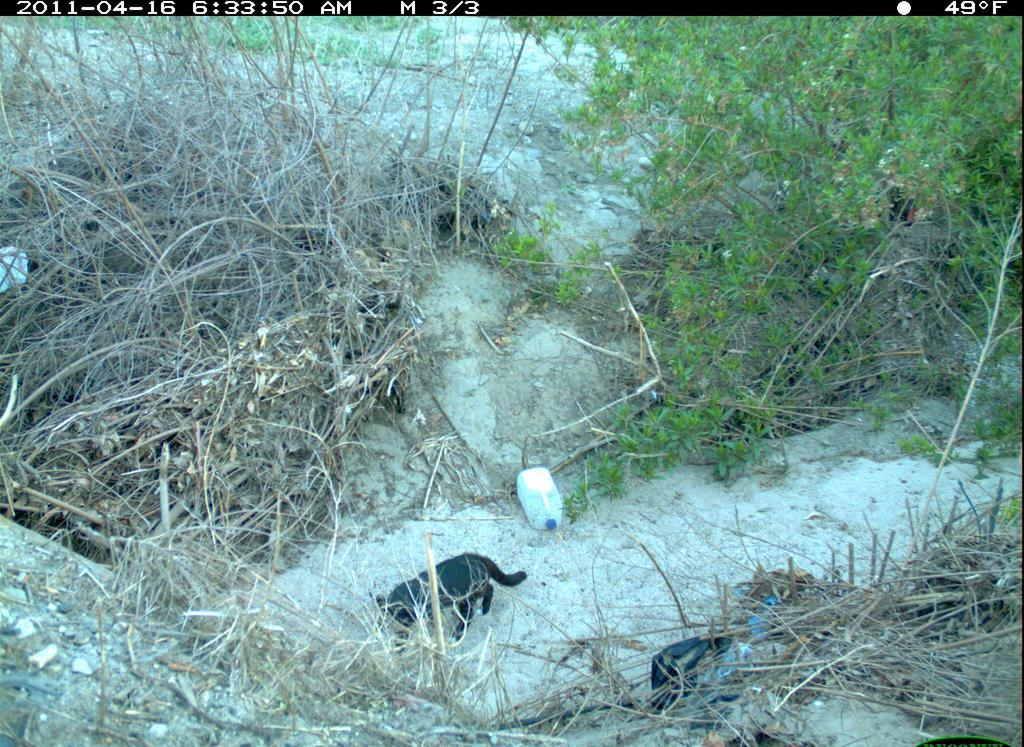cat: (368, 550, 536, 653)
